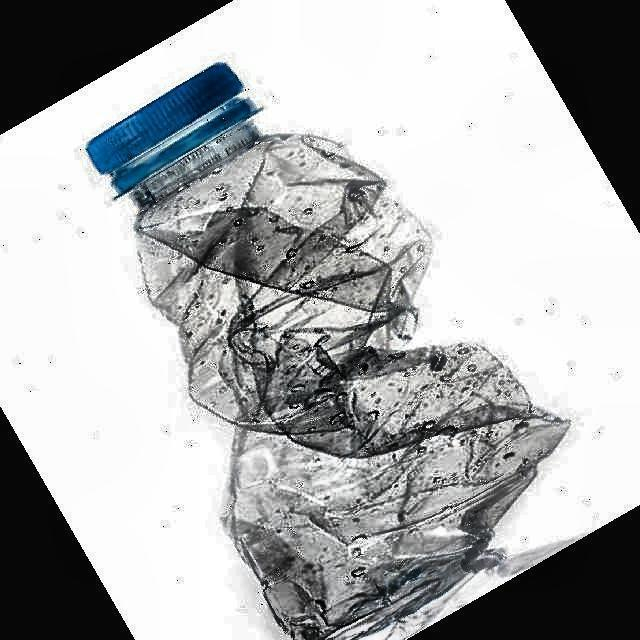plastic: (88, 64, 569, 640)
